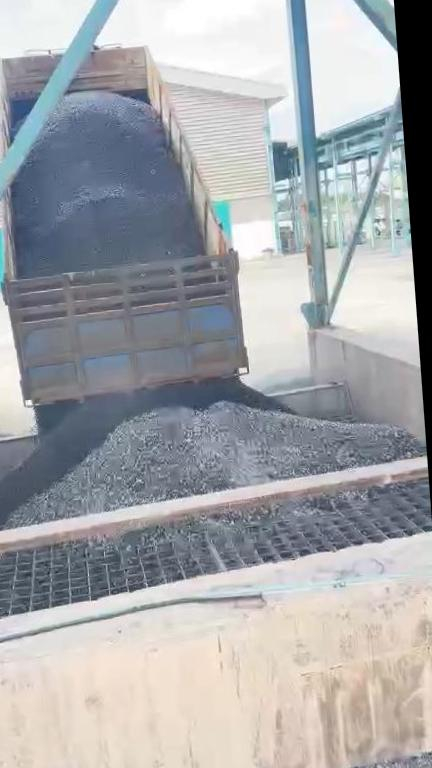gravel: (8, 402, 422, 525), (0, 377, 286, 528), (13, 93, 203, 277), (89, 486, 390, 548), (84, 748, 432, 768)
